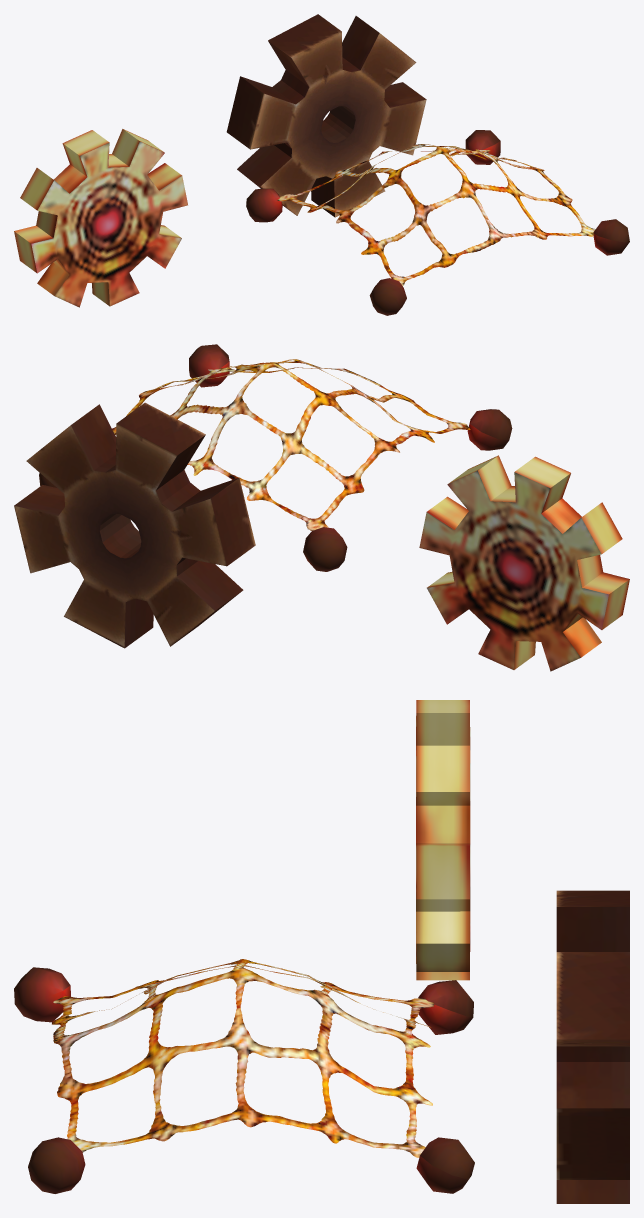
The model's file is fbx_107_skil1.FBX.
3 views of the same model, one above another, from view 1: azimuth 30°, elevation 25°; view 2: azimuth 150°, elevation 25°; view 3: azimuth 270°, elevation 25° (orthographic). The views are drawn at different scales.
Visible parts, largest first — view 1: pi_zidan1, pi_skill4, pi_wang; view 2: pi_zidan1, pi_skill4, pi_wang; view 3: pi_wang, pi_zidan1, pi_skill4.
Boxes of the visible parts, <box> form: pi_zidan1: <box>226,14,426,217</box>; pi_skill4: <box>14,129,187,307</box>; pi_wang: <box>246,130,629,315</box>; pi_zidan1: <box>14,402,255,648</box>; pi_skill4: <box>419,455,629,671</box>; pi_wang: <box>39,344,512,571</box>; pi_wang: <box>14,959,474,1193</box>; pi_zidan1: <box>556,890,629,1203</box>; pi_skill4: <box>416,700,470,980</box>.
Size of the model in its own units: 274 by 101 by 197.
